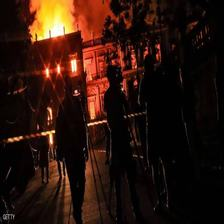fire: (14, 1, 106, 48)
